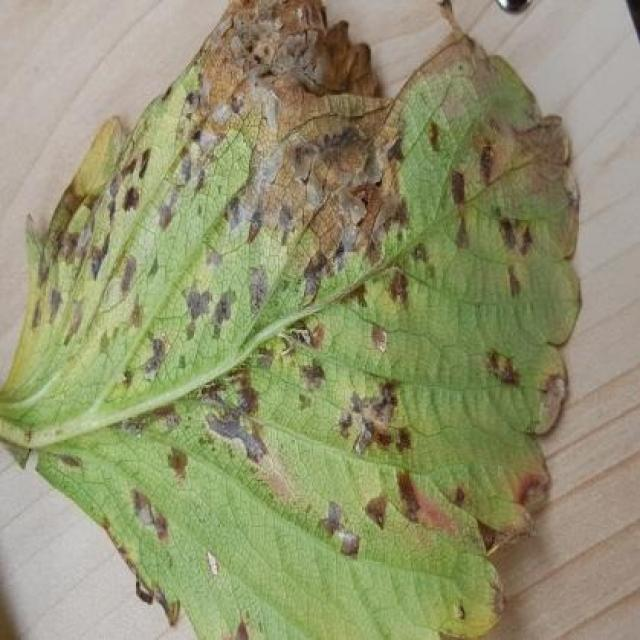Angular Leafspot: (0, 0, 583, 638)
